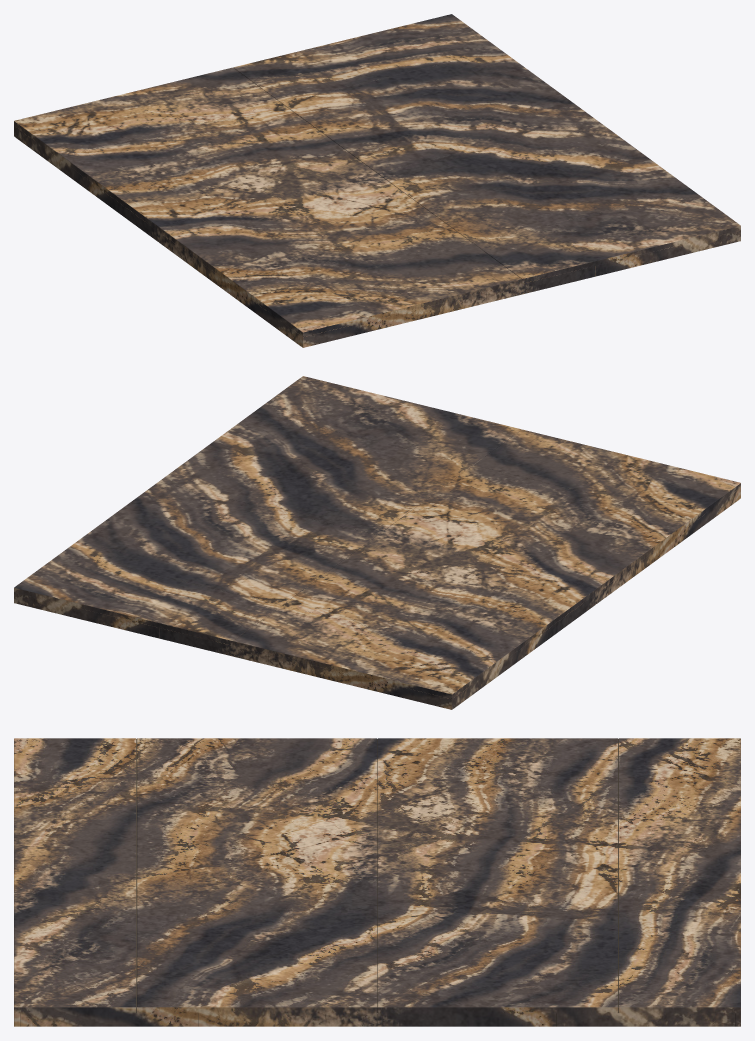
File: floor-amber-wide.glb
3 views of the same model, one above another, from view 1: azimuth 30°, elevation 25°; view 2: azimuth 150°, elevation 25°; view 3: azimuth 270°, elevation 25° (orthographic). The views are drawn at different scales.
Parts seen in each view (by area): view 1: Stone_field_amber, Stone_edge_amber; view 2: Stone_field_amber, Stone_edge_amber; view 3: Stone_field_amber, Stone_edge_amber, Joint_and_bedding_amber.
Boxes of the visible parts, box(x1,y1,x2,y2) form: Stone_field_amber: box(14, 14, 740, 336); Stone_edge_amber: box(14, 126, 740, 347); Stone_field_amber: box(14, 376, 740, 698); Stone_edge_amber: box(14, 488, 740, 709); Stone_field_amber: box(14, 738, 740, 1013); Stone_edge_amber: box(14, 1013, 740, 1026); Joint_and_bedding_amber: box(136, 739, 618, 1026).
Bounding box in the file's own units: 2.8 × 0.096 × 3.2.
3 materials, 2 textured.
